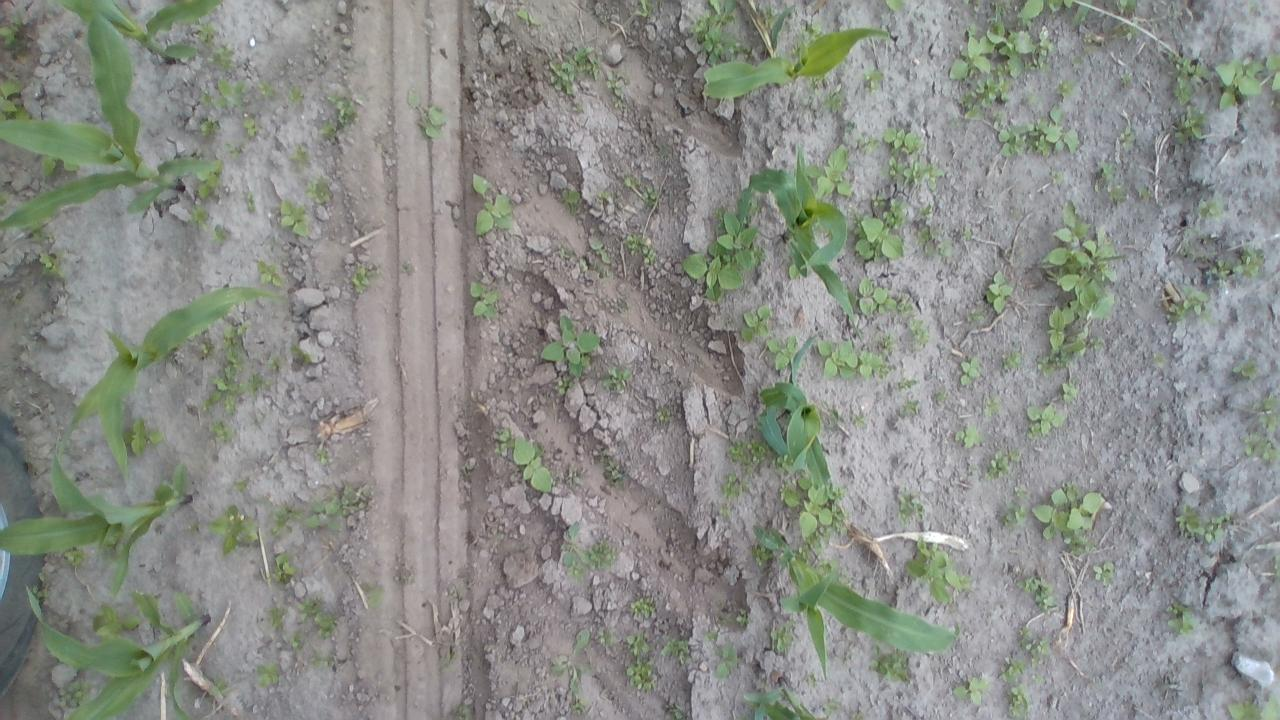Maize: (0, 0, 213, 230), (59, 286, 275, 491), (754, 526, 958, 678), (2, 449, 197, 598), (21, 584, 210, 720), (749, 146, 860, 322), (698, 1, 891, 98), (756, 330, 830, 488), (64, 0, 223, 64), (750, 674, 813, 720), (884, 0, 908, 13)
Weeds: (1048, 197, 1126, 358), (684, 210, 760, 302), (1032, 480, 1112, 560), (950, 19, 1038, 80), (208, 322, 262, 414), (994, 105, 1080, 158), (906, 536, 972, 602), (538, 312, 602, 378), (778, 466, 835, 540), (552, 629, 594, 717), (690, 0, 740, 65), (560, 519, 616, 576), (543, 44, 599, 100), (1178, 504, 1244, 548), (816, 336, 878, 382), (208, 507, 260, 560), (472, 170, 513, 236), (804, 145, 856, 197), (1214, 57, 1258, 114), (408, 88, 452, 142), (510, 437, 552, 492), (854, 215, 903, 260), (961, 74, 1008, 120), (914, 206, 955, 258), (321, 90, 358, 142), (1172, 54, 1210, 104), (88, 600, 142, 634), (863, 644, 911, 682), (125, 416, 166, 459), (1024, 402, 1068, 441), (854, 276, 896, 316), (292, 594, 334, 630), (1223, 694, 1280, 720), (278, 196, 310, 241), (888, 155, 941, 182), (882, 125, 929, 155), (1020, 626, 1052, 670), (304, 496, 343, 530), (1172, 287, 1212, 320), (1172, 108, 1208, 144), (0, 78, 32, 118), (738, 304, 770, 344), (470, 280, 500, 322), (1021, 574, 1056, 608), (728, 438, 773, 464), (625, 232, 657, 268), (200, 80, 250, 103), (0, 9, 30, 46), (984, 270, 1010, 312), (987, 444, 1018, 479), (950, 676, 990, 703), (1244, 432, 1280, 462), (764, 335, 796, 368), (895, 488, 926, 522), (1016, 0, 1071, 19), (1165, 602, 1194, 638), (955, 419, 984, 455), (1254, 391, 1280, 431), (626, 662, 660, 692), (268, 500, 292, 542), (623, 175, 659, 201), (1238, 243, 1268, 274), (344, 482, 373, 514), (834, 485, 852, 536), (1036, 352, 1072, 377), (54, 680, 88, 706), (1001, 496, 1028, 528), (34, 156, 76, 176), (255, 257, 282, 288), (1006, 688, 1032, 720), (717, 640, 740, 676), (721, 476, 750, 504), (270, 552, 296, 583), (588, 238, 614, 269), (205, 418, 235, 444), (998, 656, 1028, 682), (882, 195, 907, 226), (194, 172, 223, 198), (304, 178, 334, 202), (769, 624, 795, 651), (1201, 192, 1228, 217), (604, 366, 630, 391), (962, 359, 985, 387), (1265, 52, 1280, 94), (38, 250, 62, 276), (777, 453, 801, 479), (1234, 352, 1260, 376), (628, 632, 651, 659), (663, 638, 694, 658), (910, 317, 930, 348), (606, 78, 625, 110), (254, 662, 280, 685), (210, 45, 236, 68), (866, 70, 895, 90), (364, 584, 386, 610), (266, 600, 288, 626), (195, 23, 221, 45), (1094, 562, 1116, 587), (1074, 0, 1094, 27), (596, 626, 618, 650), (558, 189, 582, 210), (1061, 377, 1082, 401), (606, 462, 631, 482), (752, 545, 773, 568), (282, 628, 306, 648), (350, 262, 370, 286), (966, 302, 988, 323), (1038, 30, 1052, 63), (1211, 260, 1230, 283), (494, 428, 510, 455), (64, 548, 90, 564), (309, 649, 332, 667), (653, 406, 676, 424), (859, 136, 882, 154), (294, 346, 314, 366), (200, 118, 220, 138), (633, 598, 658, 614), (292, 148, 314, 166), (826, 88, 844, 110), (228, 139, 249, 157), (258, 75, 274, 98), (801, 19, 824, 35), (286, 82, 304, 102), (882, 360, 898, 382), (235, 476, 258, 491), (985, 396, 1003, 415), (1100, 160, 1119, 178), (1120, 128, 1137, 148), (267, 354, 285, 372), (1006, 352, 1024, 370), (906, 398, 923, 417), (1054, 80, 1074, 96), (1121, 73, 1137, 93), (243, 115, 258, 136), (314, 446, 333, 462), (736, 606, 750, 627), (210, 226, 226, 244), (556, 376, 574, 392), (797, 544, 815, 560), (892, 378, 916, 390), (596, 188, 618, 201), (634, 0, 653, 15), (1113, 186, 1128, 205), (828, 404, 842, 424), (822, 698, 842, 712), (192, 209, 208, 226), (516, 3, 531, 21), (885, 0, 907, 12), (1118, 0, 1140, 12), (849, 411, 869, 424), (878, 336, 894, 352), (788, 263, 802, 281), (899, 300, 914, 316), (452, 703, 470, 716), (819, 560, 842, 570), (706, 628, 722, 642), (871, 192, 882, 208), (32, 230, 49, 240), (0, 188, 10, 204), (578, 258, 588, 274), (1014, 485, 1028, 496), (34, 586, 46, 598), (214, 679, 228, 689), (1154, 350, 1164, 364), (718, 504, 732, 512), (807, 672, 817, 682), (558, 246, 566, 257), (1032, 672, 1040, 680)
